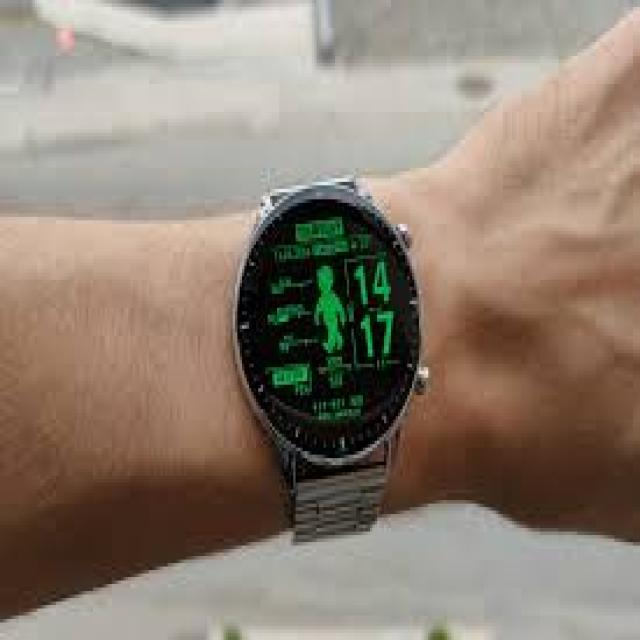objects: (237, 178, 424, 539)
